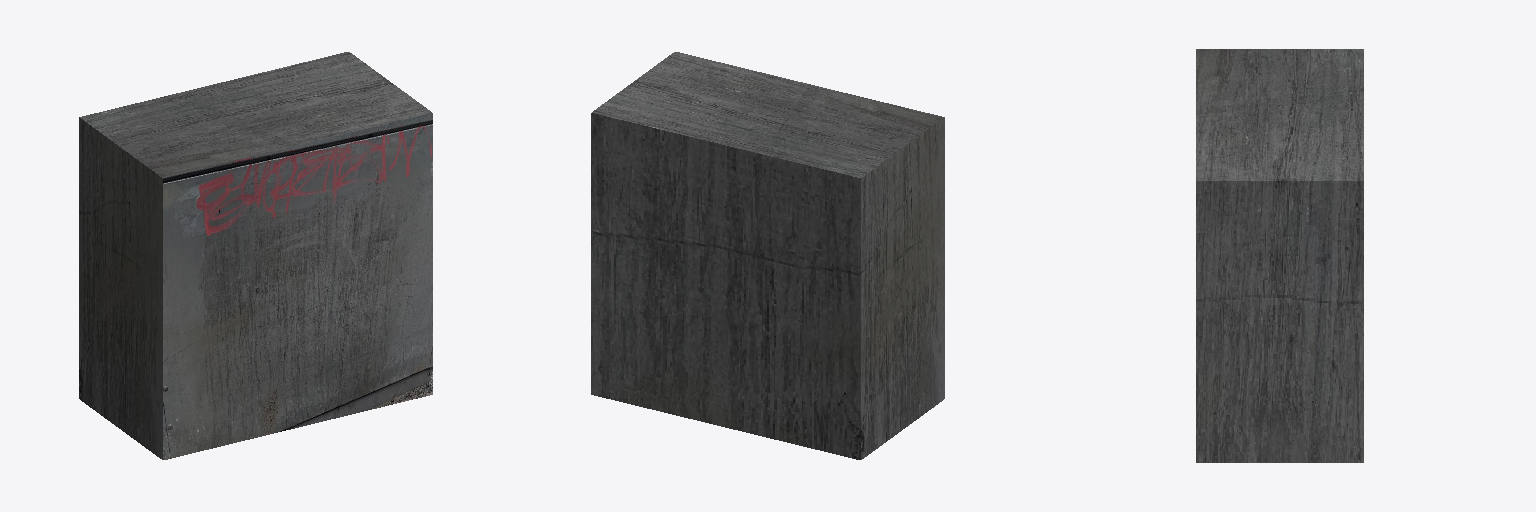
3 renders of one model, left to right at view 1: azimuth 30°, elevation 25°; view 2: azimuth 150°, elevation 25°; view 3: azimuth 270°, elevation 25°, orthographic.
Visible parts, largest first — view 1: Cube.011_Cube; view 2: Cube.011_Cube; view 3: Cube.011_Cube.
Boxes of the visible parts, <box> form: Cube.011_Cube: <box>79,52,432,459</box>; Cube.011_Cube: <box>591,52,944,459</box>; Cube.011_Cube: <box>1196,49,1363,462</box>.
Bounding box in the file's own units: 2 × 2 × 1.07.
1 materials, 1 textured.